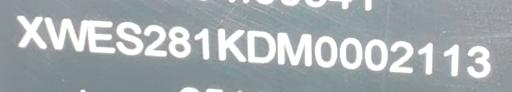letter: (43, 14, 87, 51), (276, 31, 312, 67), (216, 25, 248, 63), (14, 15, 48, 50), (245, 28, 277, 64), (465, 43, 493, 80), (86, 19, 116, 53), (115, 21, 143, 56), (388, 38, 416, 71), (142, 23, 168, 58), (166, 25, 192, 57), (314, 33, 338, 67), (364, 37, 388, 71), (338, 36, 362, 69), (192, 25, 212, 61), (441, 42, 461, 78), (416, 40, 434, 76)
